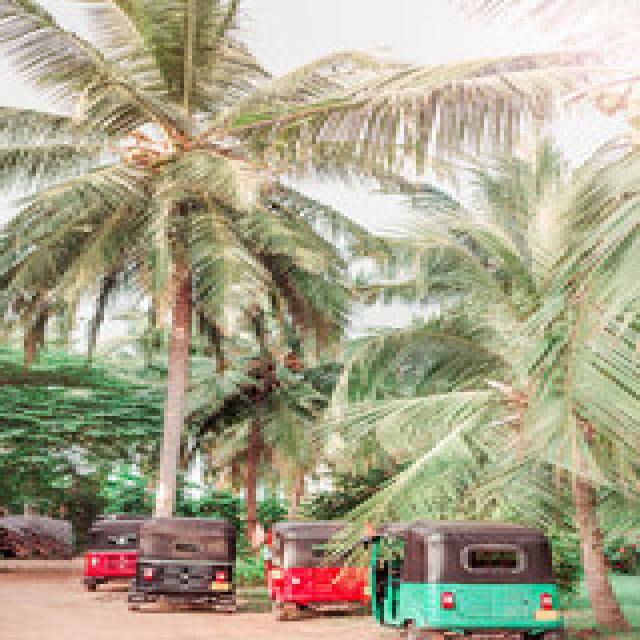three wheeler: (372, 520, 560, 640), (128, 517, 228, 613), (268, 520, 364, 619), (84, 515, 144, 592)
